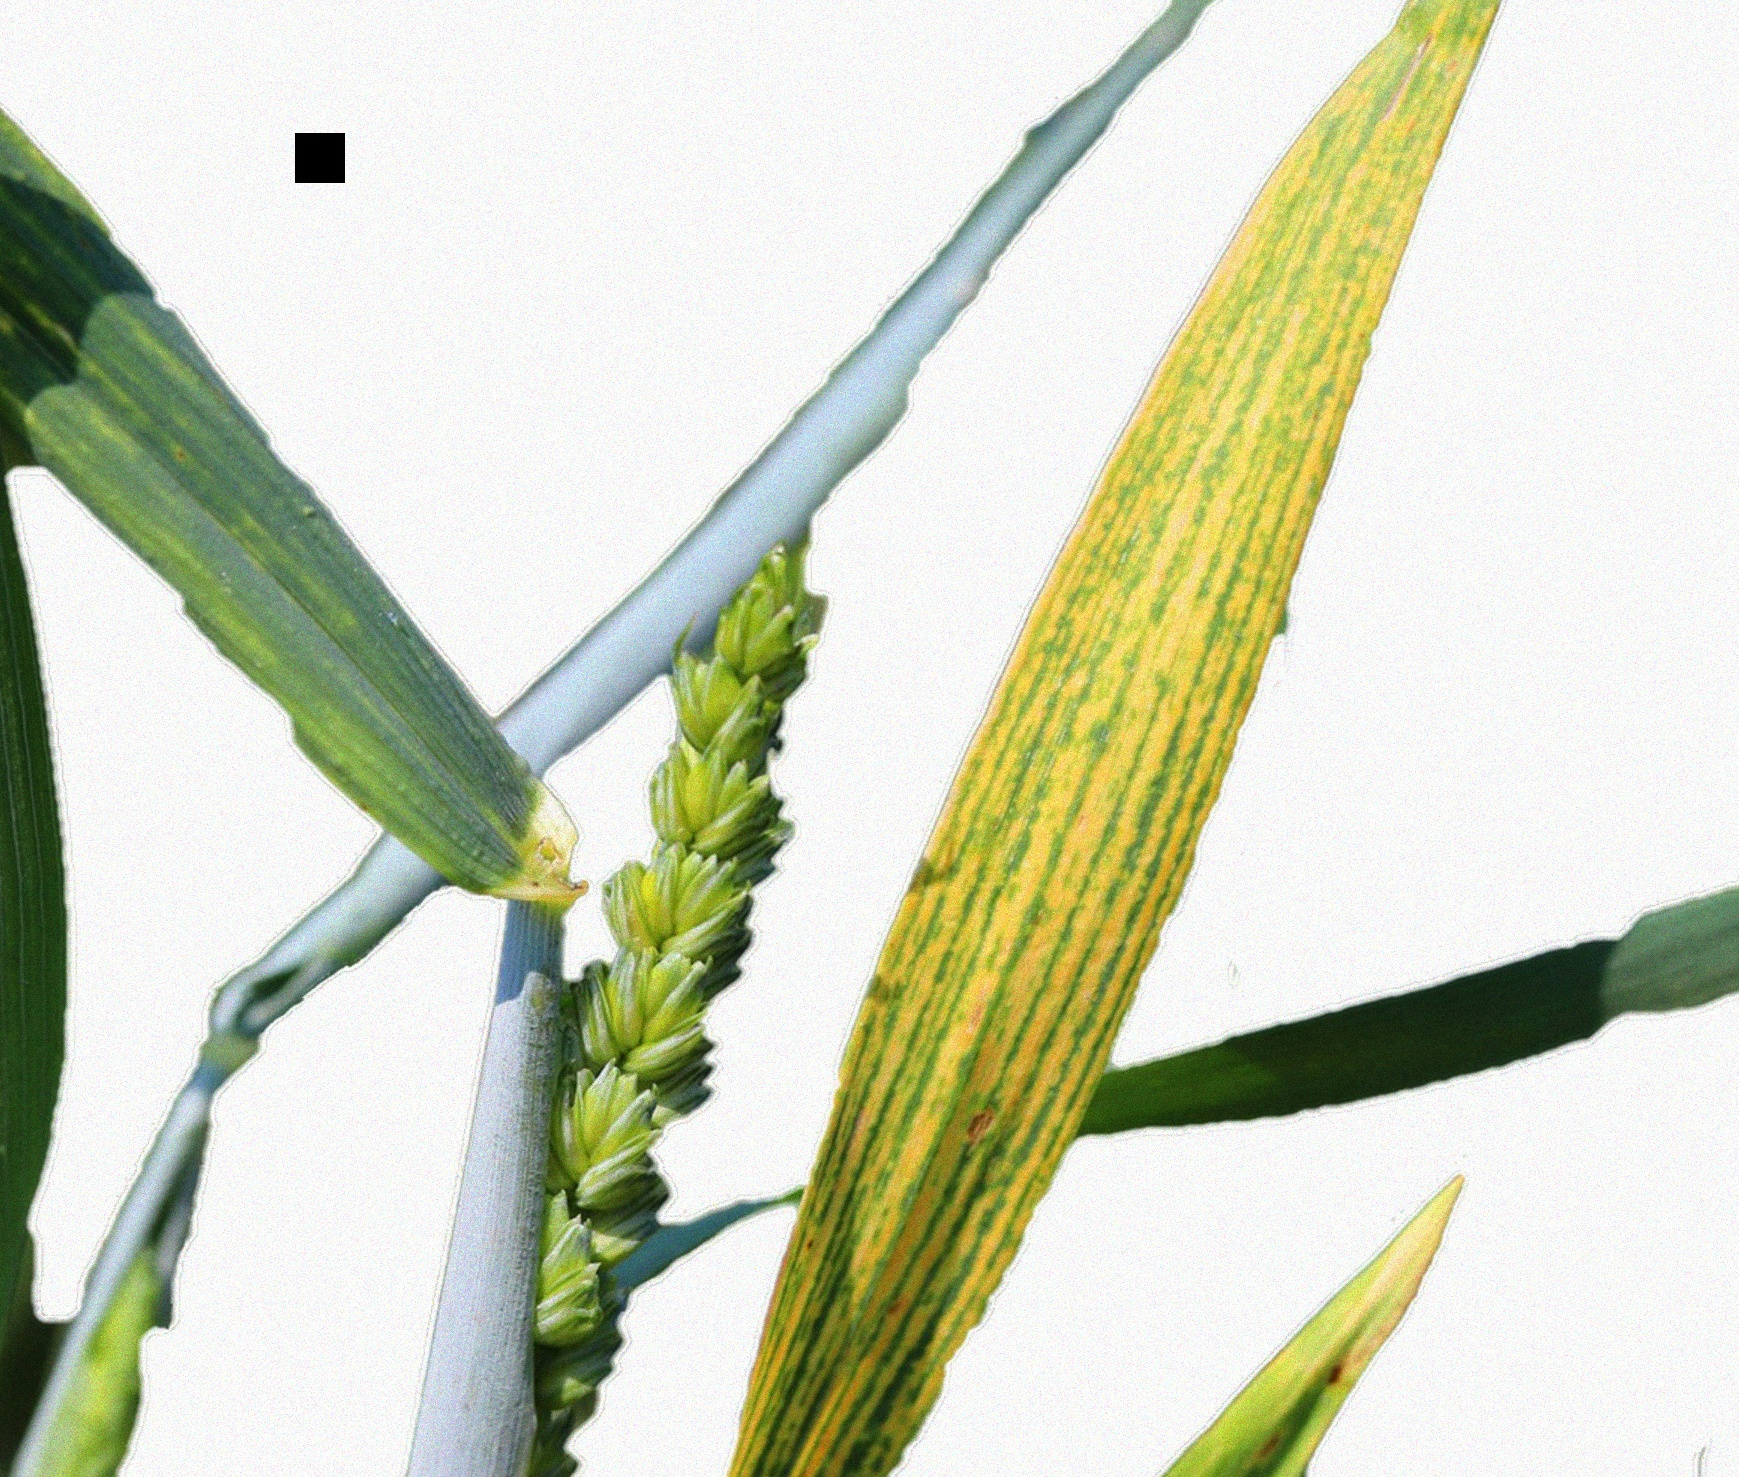wheat: (498, 486, 847, 1448)
